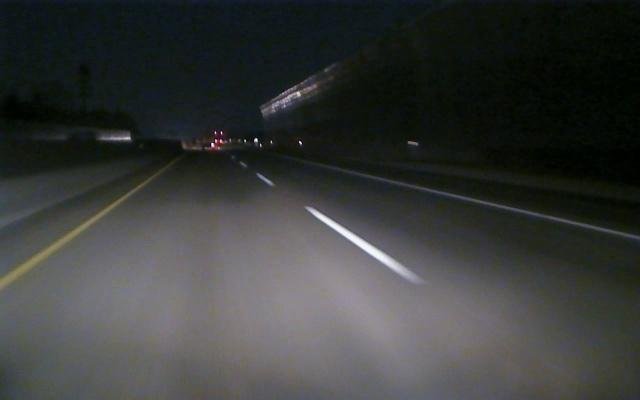lane: (348, 171, 637, 242), (254, 174, 431, 286), (2, 178, 152, 289)
